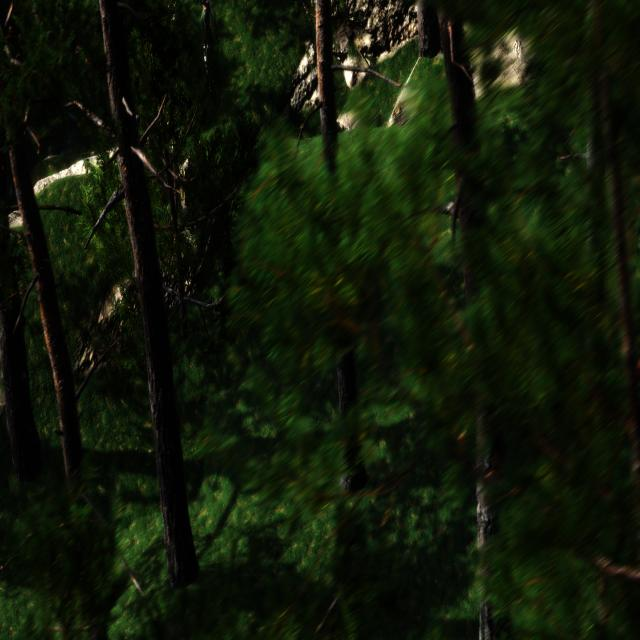Human: (198, 0, 216, 102)
